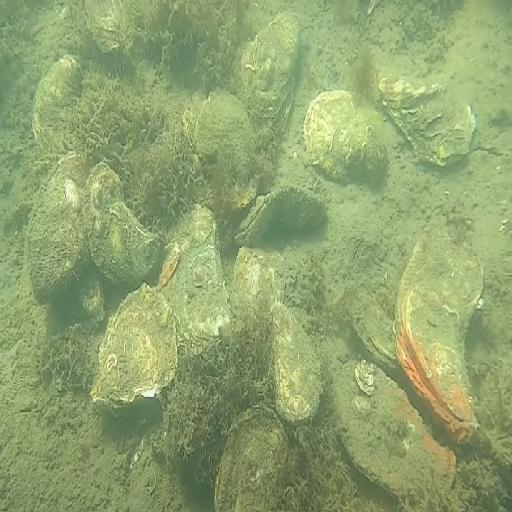Oyster-Closed: (397, 218, 485, 436), (337, 360, 457, 496), (159, 203, 234, 355), (92, 280, 179, 407), (77, 165, 163, 293), (28, 157, 96, 311), (378, 77, 475, 167), (218, 396, 291, 512), (266, 306, 326, 427), (305, 96, 387, 180), (237, 11, 299, 121), (235, 181, 326, 247), (195, 95, 263, 178), (32, 59, 85, 158), (353, 277, 403, 371), (234, 249, 287, 328), (80, 1, 142, 54), (187, 103, 202, 145)
